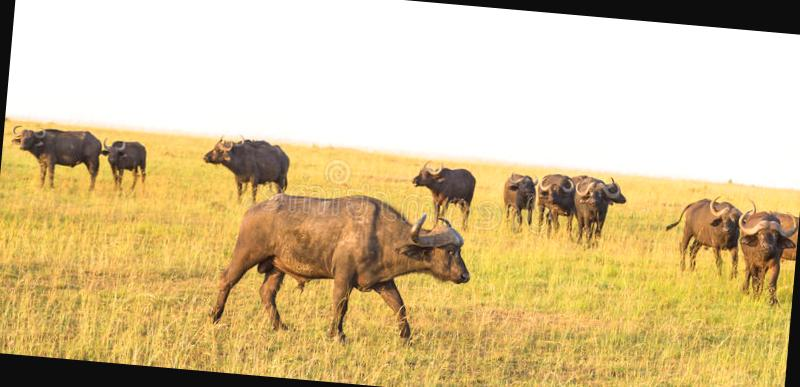Buffalo: (200, 205, 472, 360), (418, 134, 640, 223), (675, 159, 800, 295), (0, 112, 154, 198), (176, 133, 300, 212)
